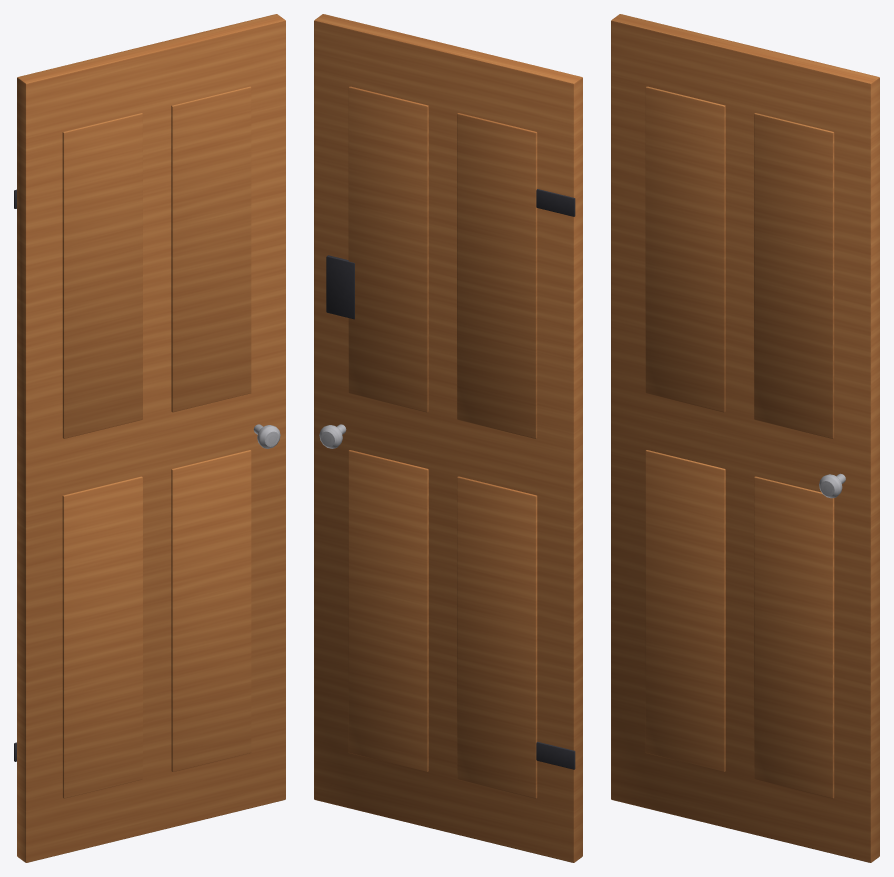
Rendered from SM_Door_4Panel.fbx.
The picture shows the model from 3 angles, left to right: view 1: azimuth 30°, elevation 25°; view 2: azimuth 150°, elevation 25°; view 3: azimuth 330°, elevation 25°; orthographic projection.
Parts seen in each view (by area): view 1: SM_Door_4Panel; view 2: SM_Door_4Panel; view 3: SM_Door_4Panel.
Part boxes in pixels (box(x1,y1,x2,y2)): SM_Door_4Panel: box(14, 14, 285, 862); SM_Door_4Panel: box(314, 14, 582, 862); SM_Door_4Panel: box(611, 14, 879, 862).
Size of what is drawn, in the model's own units: 0.725 by 2.06 by 0.189.
Materials: 3 (3 with a texture image).
